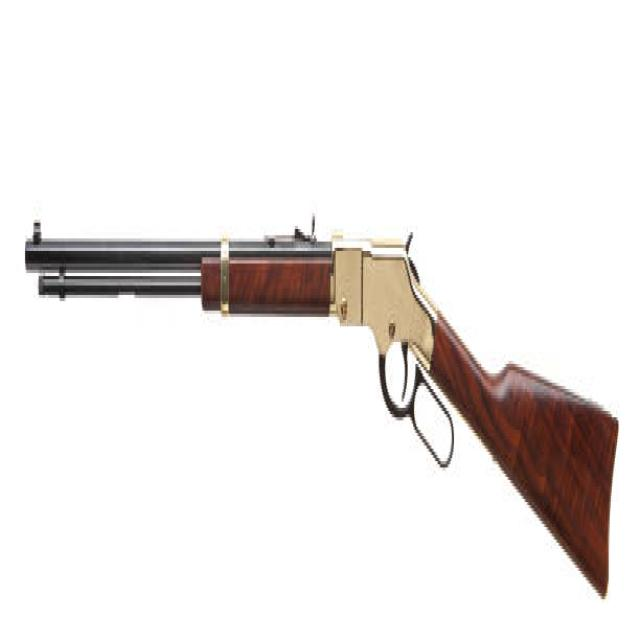rifle: (23, 211, 622, 621)
